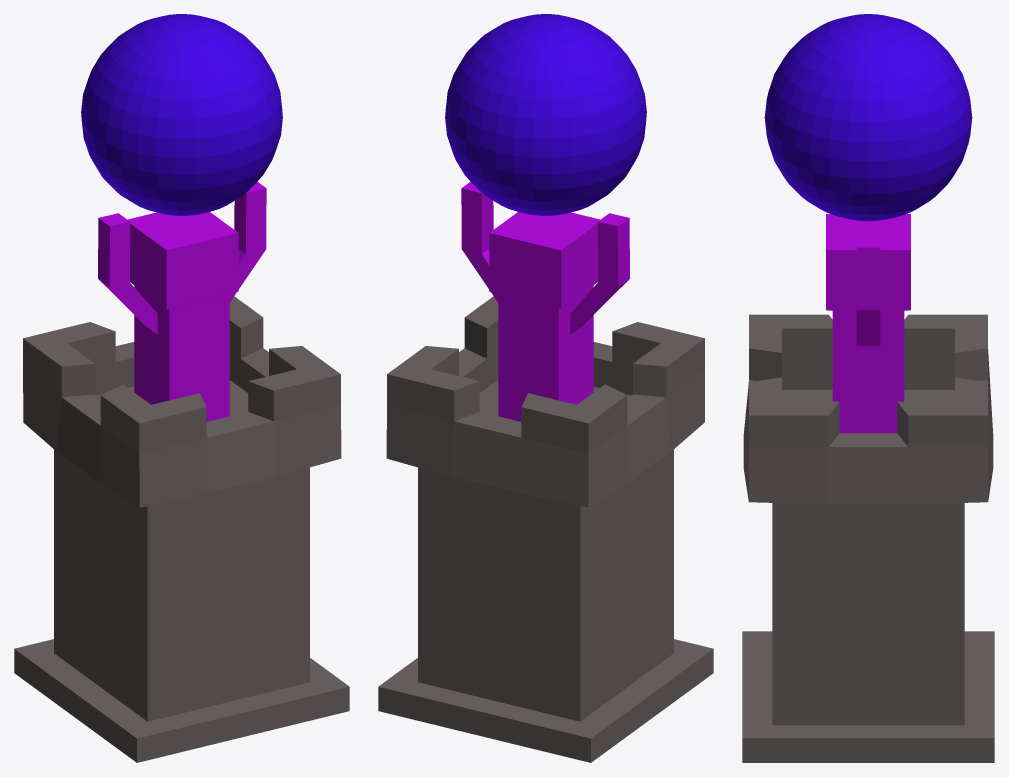
Rendered from WizardTower.fbx.
The picture shows the model from 3 angles, left to right: view 1: azimuth 30°, elevation 25°; view 2: azimuth 150°, elevation 25°; view 3: azimuth 270°, elevation 25°; orthographic projection. The views are drawn at different scales.
Parts seen in each view (by area): view 1: Wizard Tower, Magic Ball, Wizard; view 2: Wizard Tower, Magic Ball, Wizard; view 3: Wizard Tower, Magic Ball, Wizard.
Boxes of the visible parts, bbox=[...] form: Wizard Tower: bbox=[14, 296, 349, 762]; Magic Ball: bbox=[81, 14, 282, 215]; Wizard: bbox=[98, 182, 266, 421]; Wizard Tower: bbox=[378, 296, 713, 762]; Magic Ball: bbox=[445, 14, 646, 215]; Wizard: bbox=[461, 182, 629, 421]; Wizard Tower: bbox=[742, 314, 994, 762]; Magic Ball: bbox=[764, 14, 972, 221]; Wizard: bbox=[826, 214, 910, 433].
Size of the model in its own units: 295 by 887 by 295.
